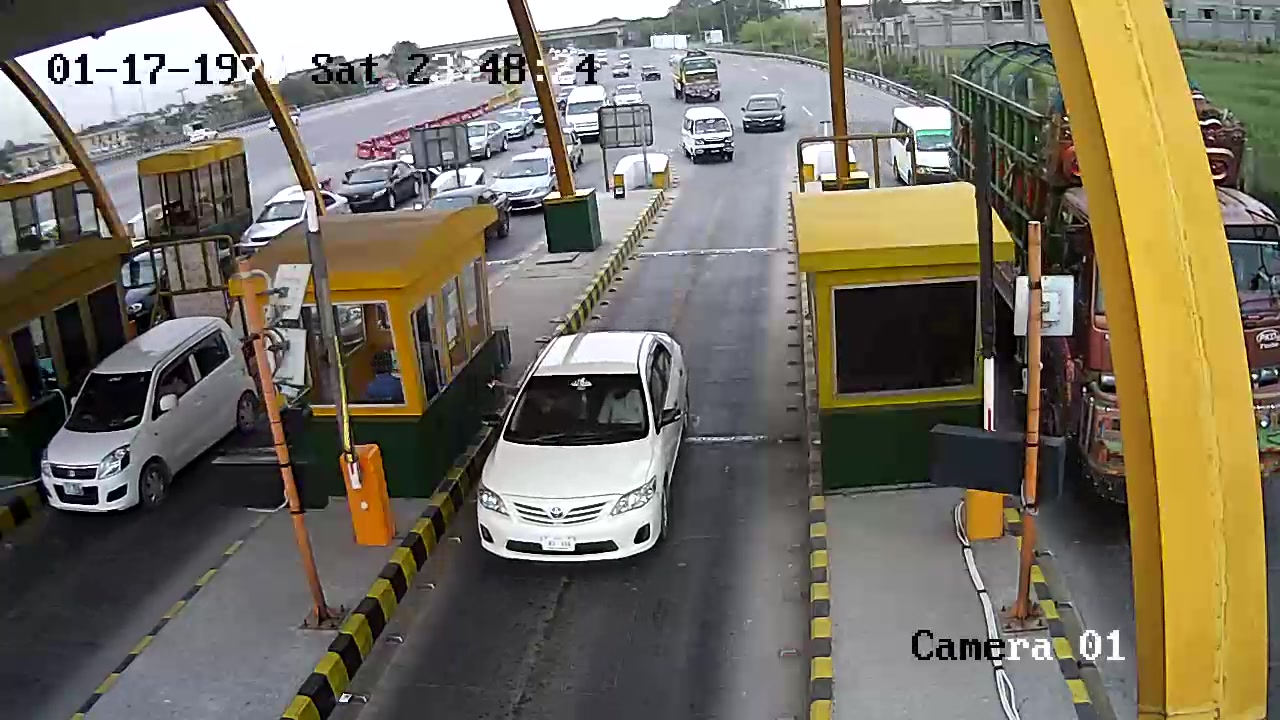F1: (466, 320, 699, 575)
